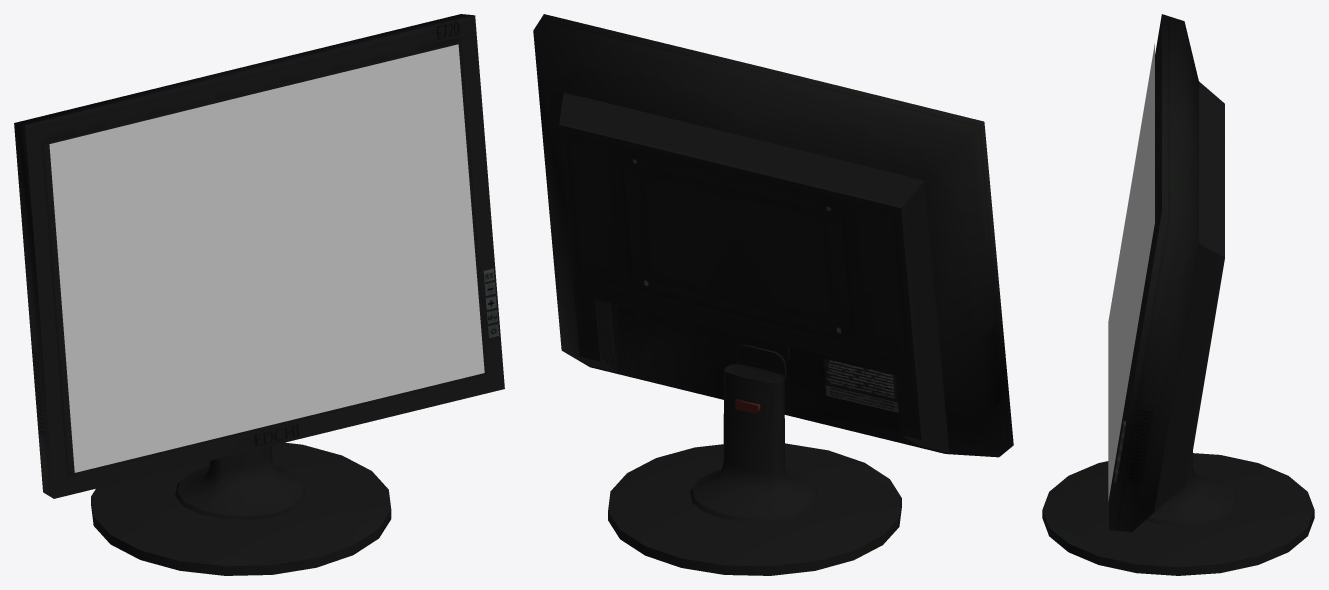
The model's file is monitor_terminal.dae.
The picture shows the model from 3 angles, left to right: view 1: azimuth 30°, elevation 25°; view 2: azimuth 150°, elevation 25°; view 3: azimuth 270°, elevation 25°; orthographic projection. The views are drawn at different scales.
Visible parts, largest first — view 1: monitor_screen, polySurface186; view 2: polySurface186; view 3: polySurface186, monitor_screen.
Part boxes in pixels (x1=…): monitor_screen: x1=49, y1=44, x2=484, y2=472; polySurface186: x1=14, y1=14, x2=504, y2=575; polySurface186: x1=533, y1=14, x2=1013, y2=575; polySurface186: x1=1042, y1=14, x2=1314, y2=575; monitor_screen: x1=1108, y1=43, x2=1154, y2=501.
Size of the model in its own units: 71.93 by 68.5 by 41.64.
